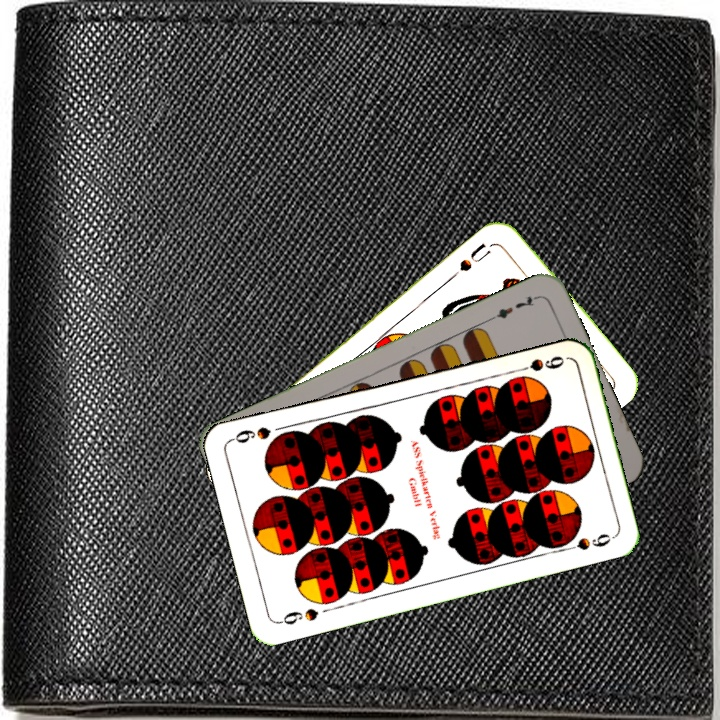E7: (486, 291, 542, 323)
S9: (509, 351, 567, 375), (274, 604, 321, 628)
SU: (449, 238, 499, 280)
